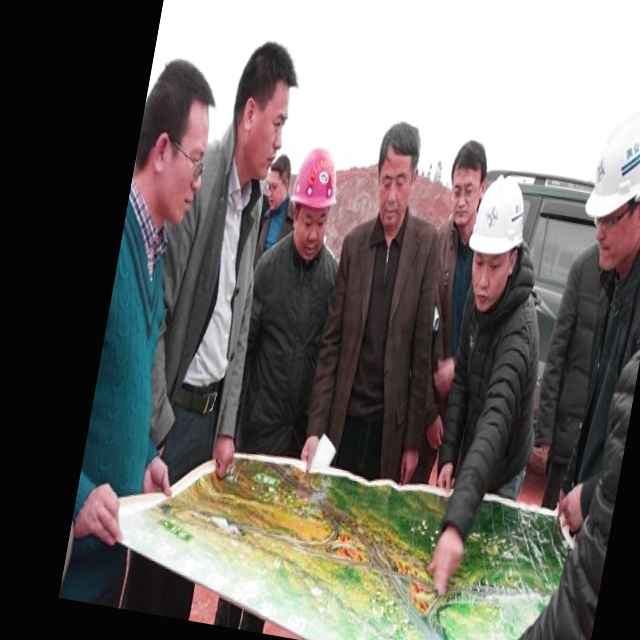Con_Casco: (461, 173, 531, 305), (280, 143, 343, 259)
Sin_Casco_Mascarrilla: (222, 42, 302, 178)
Sin_Chaleco: (305, 209, 443, 478)
